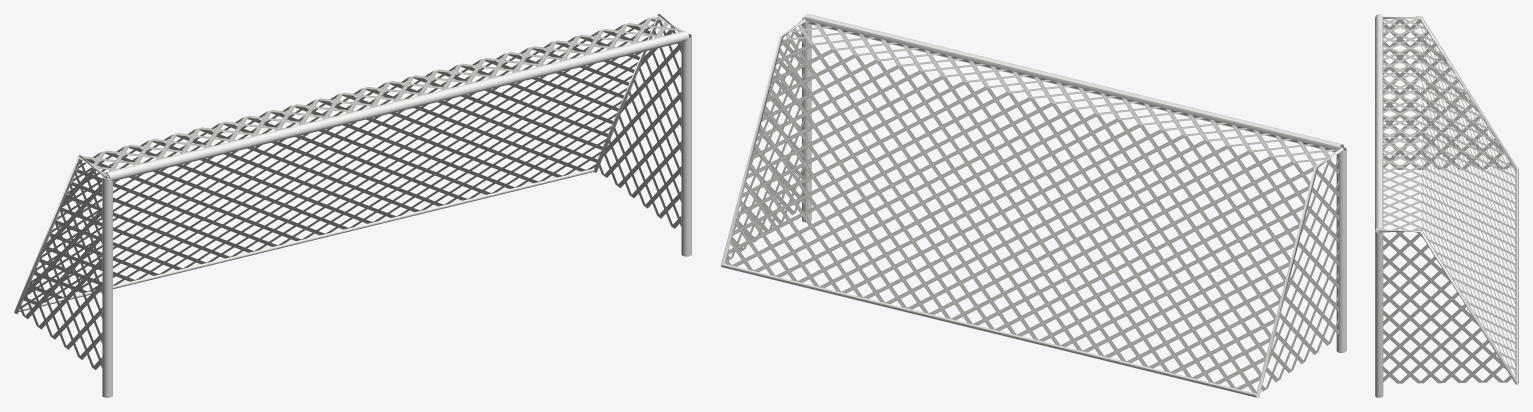
Rendered from football-goal.glb.
The picture shows the model from 3 angles, left to right: view 1: azimuth 30°, elevation 25°; view 2: azimuth 150°, elevation 25°; view 3: azimuth 270°, elevation 25°; orthographic projection. The views are drawn at different scales.
Parts seen in each view (by area): view 1: football-goal-net, football-goal; view 2: football-goal-net, football-goal; view 3: football-goal-net, football-goal.
Part boxes in pixels (bbox=[...]): football-goal-net: bbox=[19, 17, 681, 369]; football-goal: bbox=[14, 14, 691, 397]; football-goal-net: bbox=[725, 21, 1338, 393]; football-goal: bbox=[720, 14, 1346, 397]; football-goal-net: bbox=[1379, 18, 1516, 383]; football-goal: bbox=[1375, 14, 1518, 397].
Bounding box in the file's own units: 7.44 × 2.7 × 2.08.
Materials: 2 (1 with a texture image).
